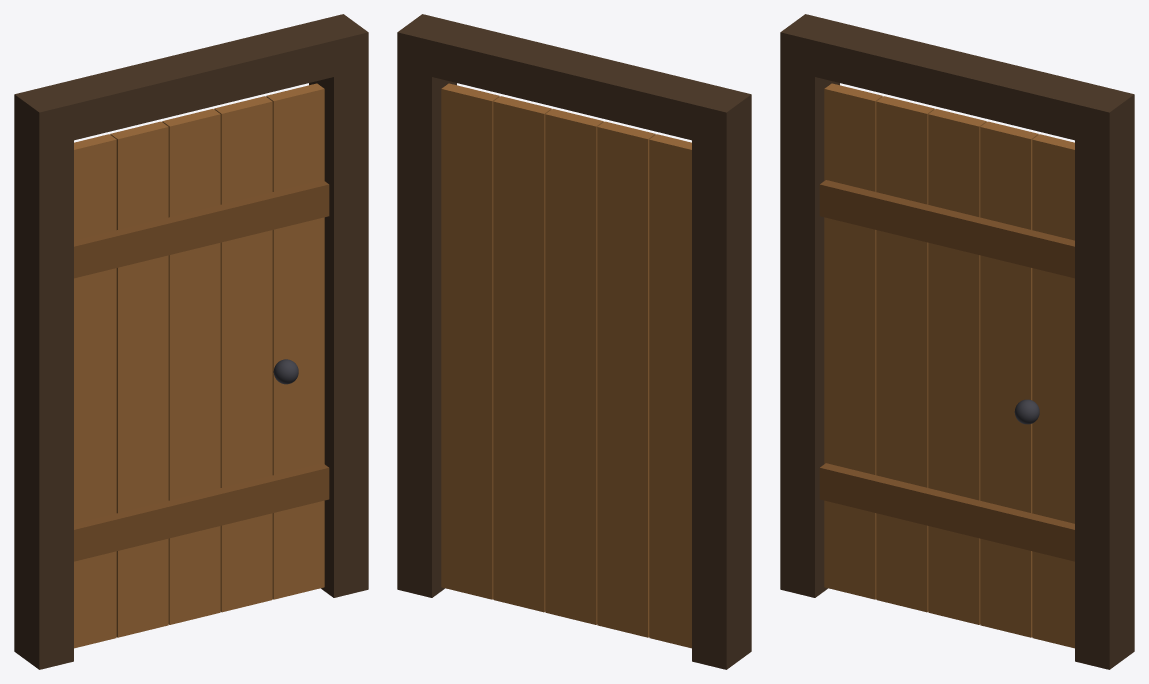
Rendered from door.glb.
3 views of the same model, side by side, from view 1: azimuth 30°, elevation 25°; view 2: azimuth 150°, elevation 25°; view 3: azimuth 330°, elevation 25° (orthographic).
Parts seen in each view (by area): view 1: Fixed_PostLeft, Fixed_PostRight, Wood_Plank3, Wood_Plank1, Wood_Plank2, Wood_Plank4, Fixed_Lintel, Wood_Plank0, Wood_BraceLow, Wood_BraceHigh; view 2: Fixed_PostLeft, Wood_Plank1, Wood_Plank3, Wood_Plank4, Wood_Plank2, Fixed_PostRight, Wood_Plank0, Fixed_Lintel; view 3: Fixed_PostRight, Fixed_PostLeft, Wood_Plank0, Wood_Plank1, Wood_Plank2, Wood_Plank3, Fixed_Lintel, Wood_Plank4, Wood_BraceLow, Wood_BraceHigh.
Part boxes in pixels (x1,y1,x2,y2): Fixed_PostLeft: [14, 131, 73, 669]; Fixed_PostRight: [309, 68, 368, 597]; Wood_Plank3: [214, 96, 272, 612]; Wood_Plank1: [110, 121, 168, 637]; Wood_Plank2: [162, 109, 220, 624]; Wood_Plank4: [266, 83, 324, 599]; Fixed_Lintel: [14, 14, 368, 148]; Wood_Plank0: [74, 134, 116, 648]; Wood_BraceLow: [74, 463, 329, 561]; Wood_BraceHigh: [74, 180, 329, 278]; Fixed_PostLeft: [692, 131, 751, 669]; Wood_Plank1: [597, 121, 655, 637]; Wood_Plank3: [493, 96, 551, 612]; Wood_Plank4: [441, 83, 499, 599]; Wood_Plank2: [545, 109, 603, 624]; Fixed_PostRight: [397, 68, 456, 597]; Wood_Plank0: [649, 134, 691, 648]; Fixed_Lintel: [397, 14, 751, 148]; Fixed_PostRight: [1075, 131, 1134, 669]; Fixed_PostLeft: [780, 68, 839, 597]; Wood_Plank0: [824, 83, 882, 599]; Wood_Plank1: [876, 96, 934, 612]; Wood_Plank2: [928, 109, 986, 624]; Wood_Plank3: [980, 121, 1038, 637]; Fixed_Lintel: [780, 14, 1134, 148]; Wood_Plank4: [1032, 134, 1074, 648]; Wood_BraceLow: [819, 463, 1074, 561]; Wood_BraceHigh: [819, 180, 1074, 278].
Size of the model in its own units: 1.52 by 2.46 by 0.2499.
